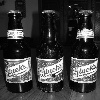beer: (4, 9, 36, 92)
